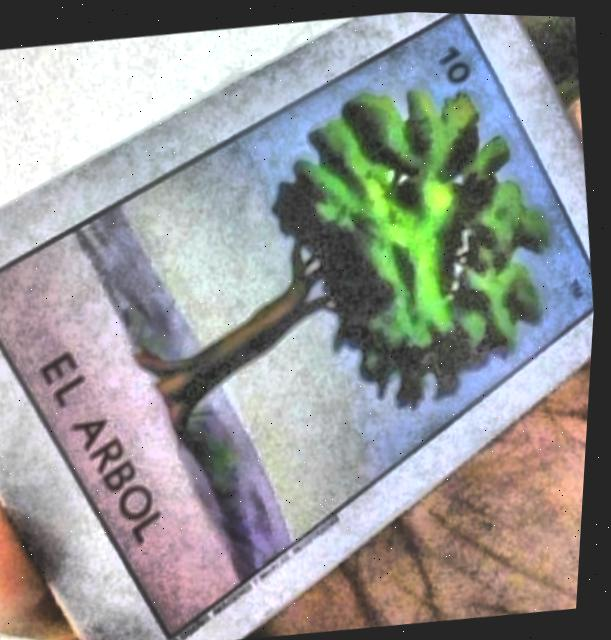El Arbol: (0, 10, 596, 633)
